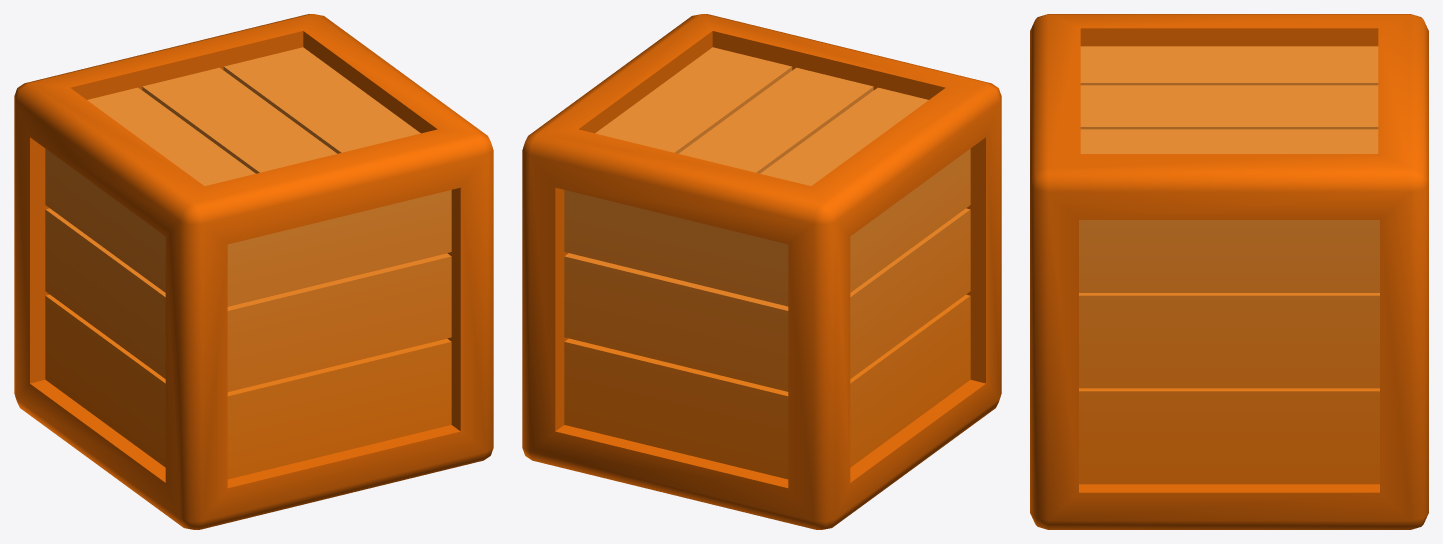
Rendered from Prop_Crate_01.fbx.
The picture shows the model from 3 angles, left to right: view 1: azimuth 30°, elevation 25°; view 2: azimuth 150°, elevation 25°; view 3: azimuth 270°, elevation 25°; orthographic projection. The views are drawn at different scales.
Parts seen in each view (by area): view 1: Prop_Crate_01; view 2: Prop_Crate_01; view 3: Prop_Crate_01.
Boxes of the visible parts, x1=… form: Prop_Crate_01: x1=14, y1=14, x2=493, y2=529; Prop_Crate_01: x1=522, y1=14, x2=1001, y2=529; Prop_Crate_01: x1=1030, y1=14, x2=1428, y2=529.
Bounding box in the file's own units: 119 × 119 × 119.
